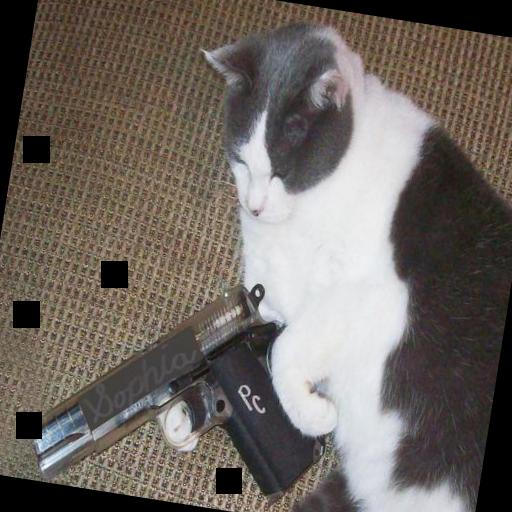Handgun: (20, 235, 350, 512)
